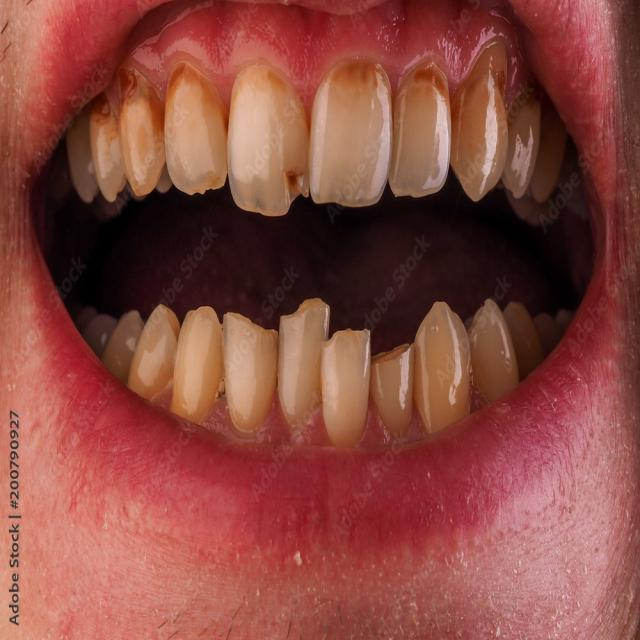tooth: (312, 61, 390, 202), (233, 72, 305, 211), (164, 64, 226, 190), (410, 301, 470, 429), (220, 309, 272, 429), (275, 297, 322, 426), (458, 56, 499, 200), (325, 327, 373, 444), (399, 71, 445, 193), (181, 305, 220, 413), (118, 103, 160, 191), (93, 90, 123, 208), (372, 344, 413, 427), (140, 302, 170, 386), (478, 314, 512, 388)
